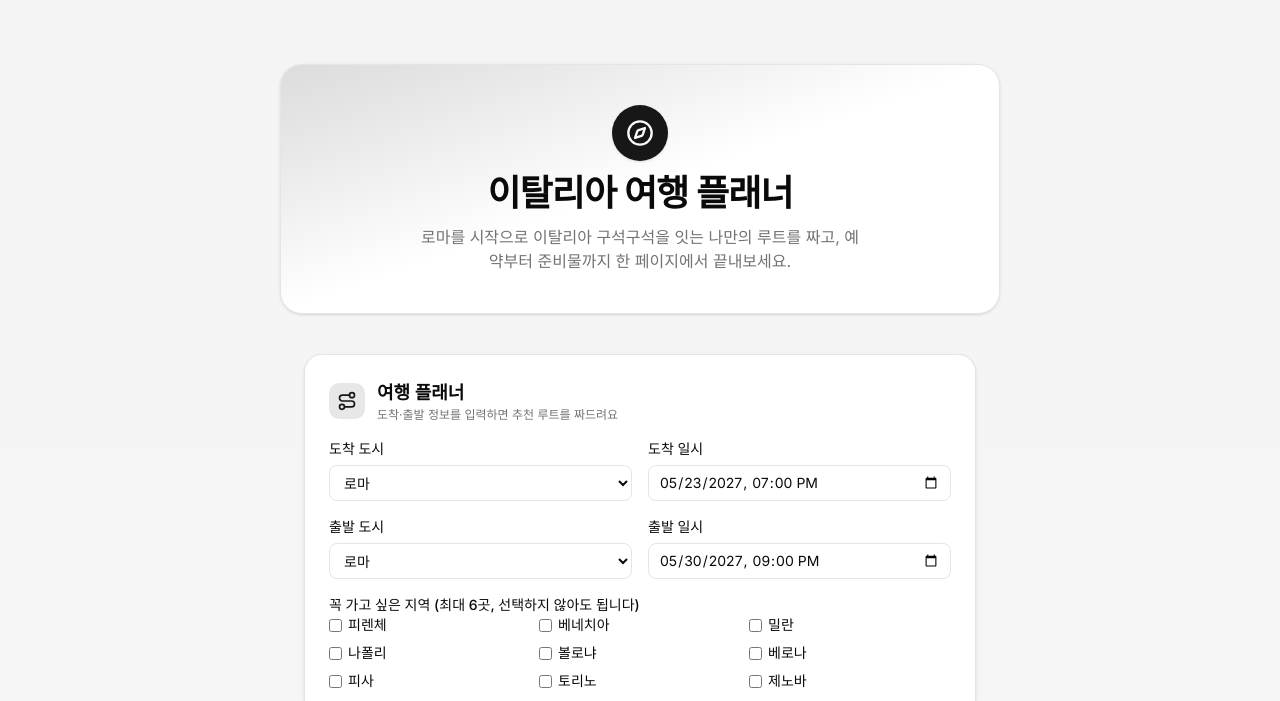
Test: 꼭 가고 싶은 지역을 고르면 추천 루트가 그 지역을 포함한다
Step 1. Replace the text in the field labelled "도착 일시" with "2026-09-10T14:00" → (800, 483), box [648,465,951,501]
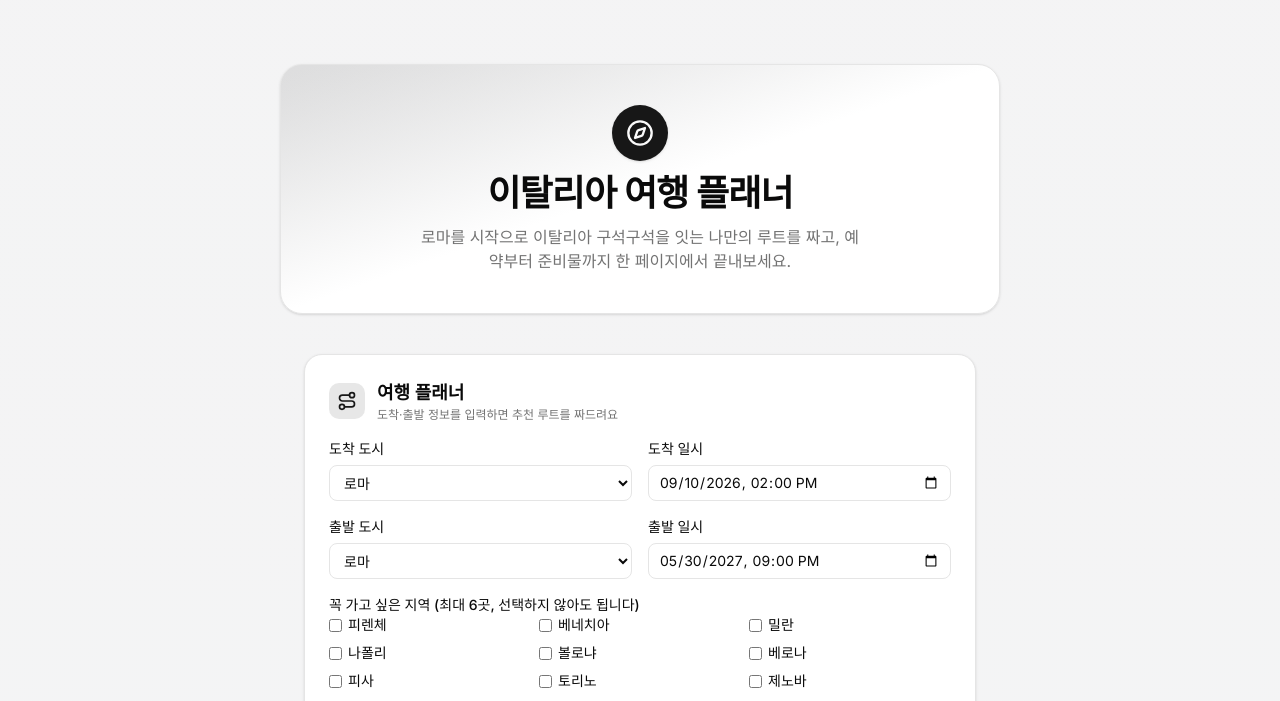
Step 2. Replace the text in the field labelled "출발 일시" with "2026-09-18T09:00" → (800, 561), box [648,543,951,579]
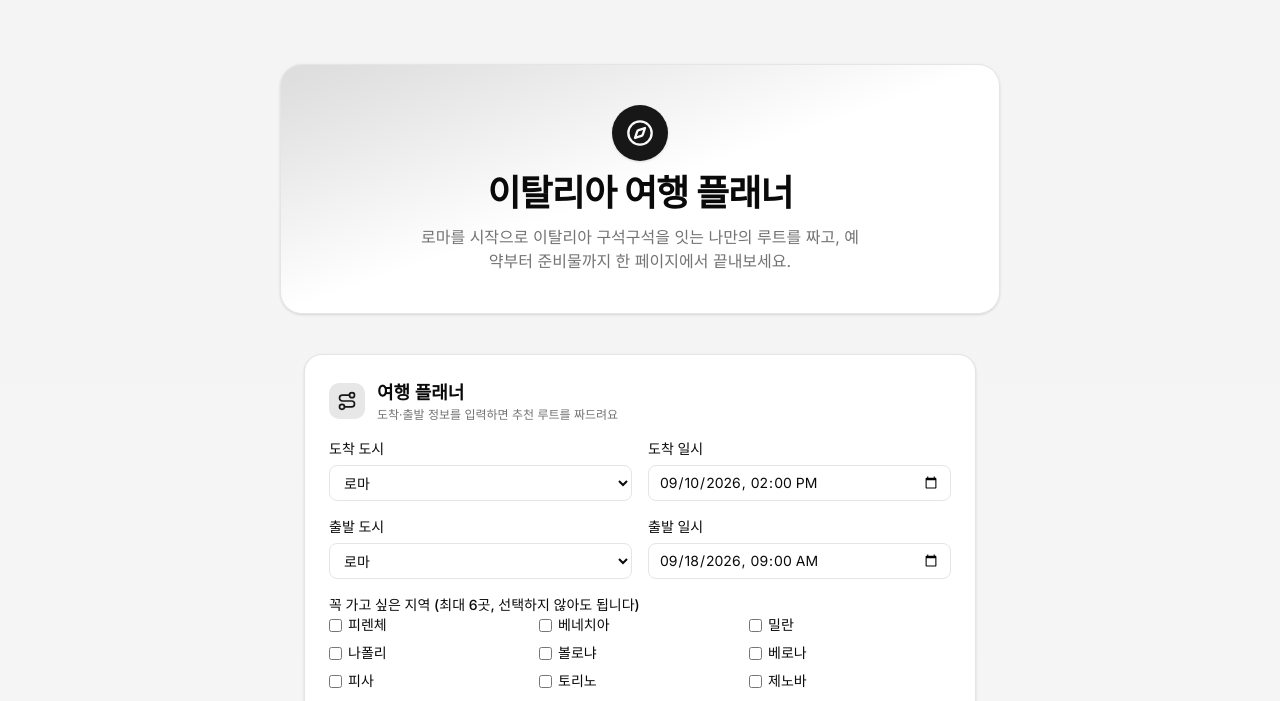
Step 3. Click the checkbox labelled "토리노" → (546, 681), box [539,674,552,688]
(page scrolled)
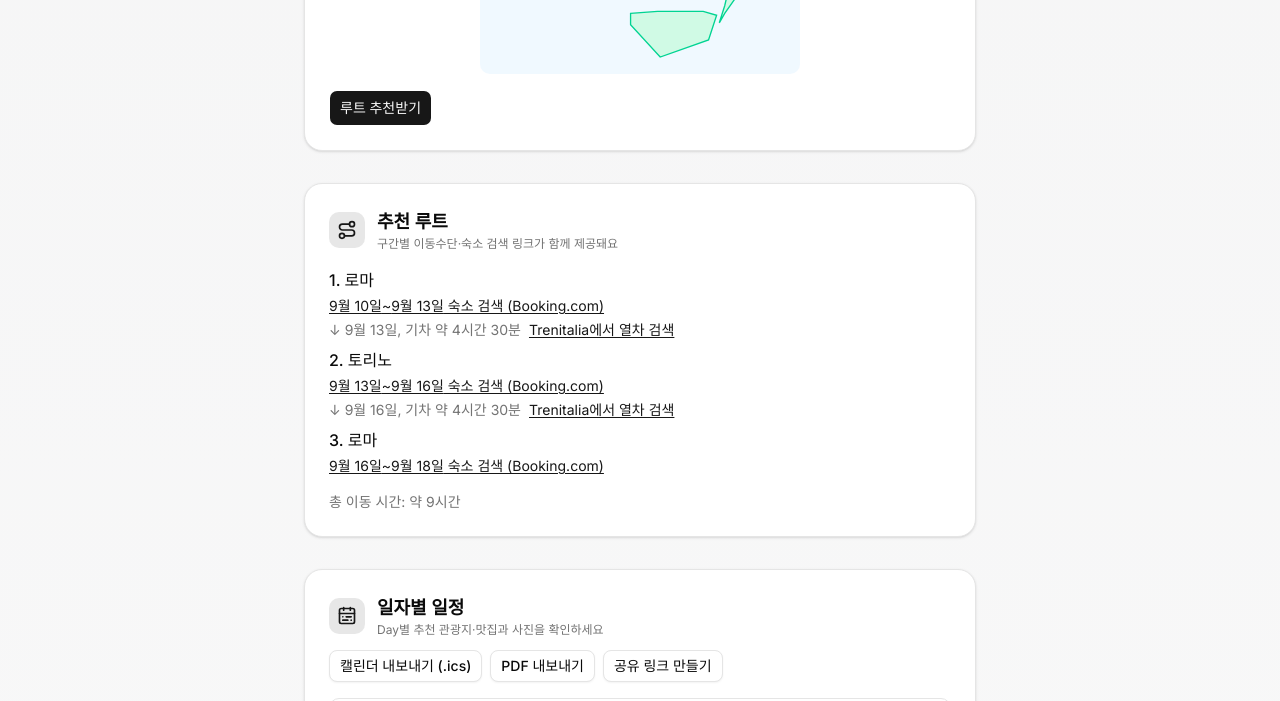
Expected: the element "추천 루트" is shown, [304,183,976,537]
Expected: the text "2. 토리노" is shown, [329,350,392,370]
